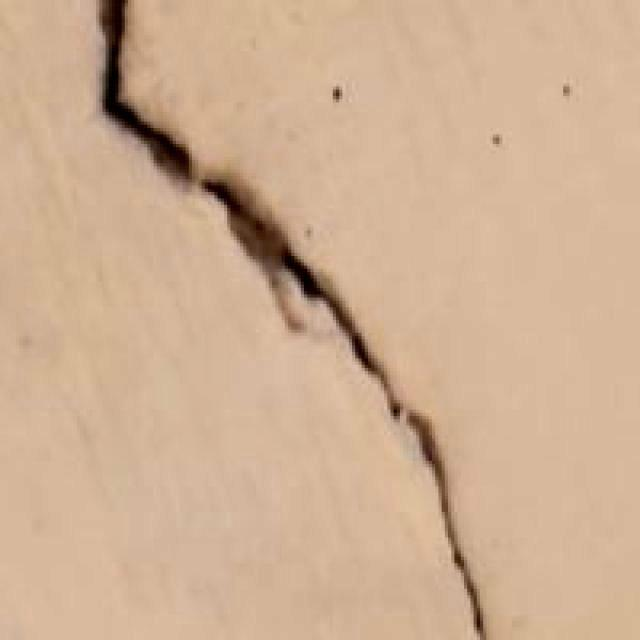SurfaceCrack: (80, 2, 586, 640)
